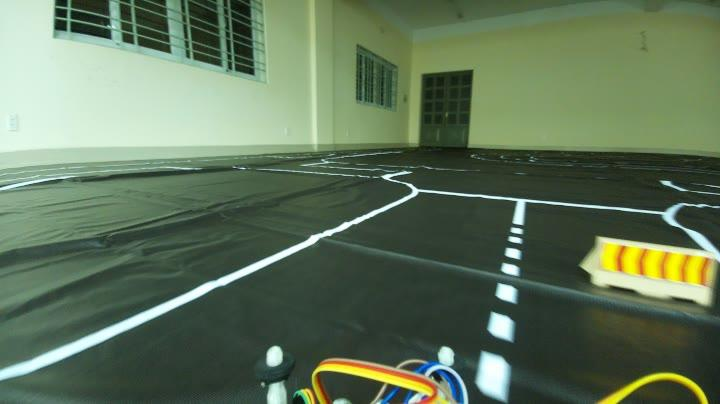roadblock: (579, 232, 720, 321)
